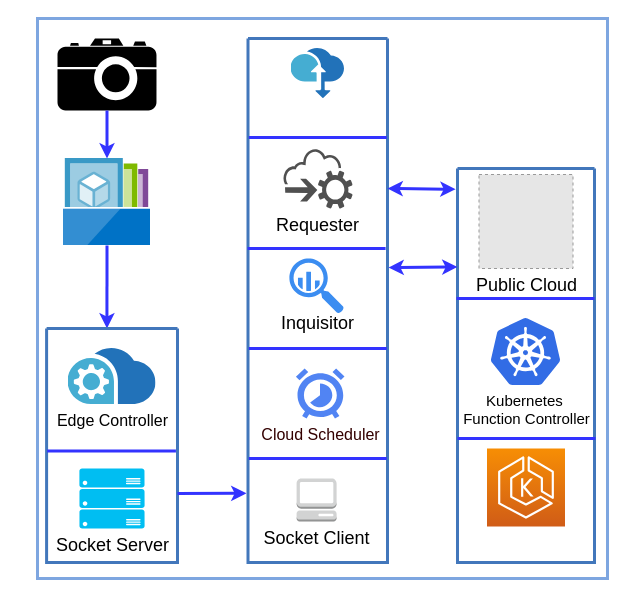
This 626x597 diagram has some shape labels left out. Grey dashed boxes stand in for pictures. The centre of each missing label's shape, as x and y in pixels:
Batch of images: the point at 106,201
Edge Cloud: the point at 317,73
Kubeless: the point at 525,487
